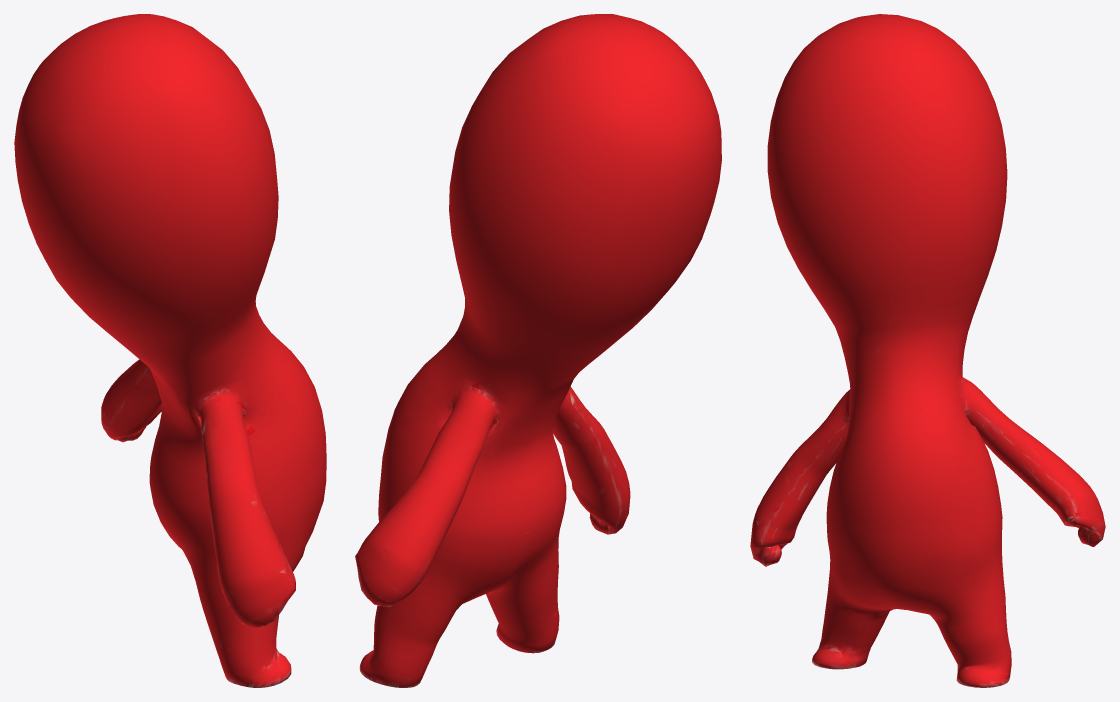
File: virtual player 3.fbx
3 views of the same model, side by side, from view 1: azimuth 30°, elevation 25°; view 2: azimuth 150°, elevation 25°; view 3: azimuth 270°, elevation 25° (orthographic). The views are drawn at different scales.
Parts seen in each view (by area): view 1: node_id68; view 2: node_id68; view 3: node_id68.
Boxes of the visible parts, left/top/right/bottom form: node_id68: left=14, top=14, right=326, bottom=687; node_id68: left=355, top=14, right=721, bottom=687; node_id68: left=750, top=14, right=1105, bottom=687.
Size of the model in its own units: 0.2399 by 0.507 by 0.2737.
1 material, 1 textured.
